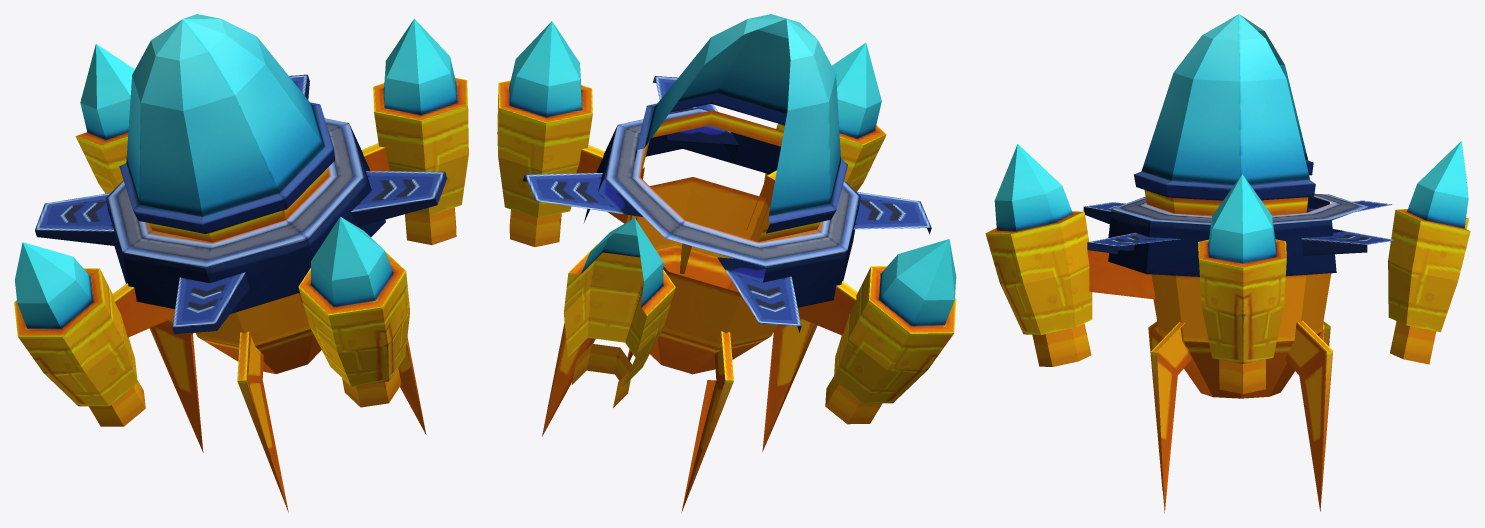
3 renders of one model, left to right at view 1: azimuth 30°, elevation 25°; view 2: azimuth 150°, elevation 25°; view 3: azimuth 270°, elevation 25°, orthographic. The views are drawn at different scales.
Visible parts, largest first — view 1: Object153; view 2: Object153; view 3: Object153.
Boxes of the visible parts, box(x1,y1,x2,y2) form: Object153: box(14, 14, 468, 512); Object153: box(497, 14, 956, 512); Object153: box(985, 14, 1470, 513).
Size of the model in its own units: 266 by 269 by 264.
